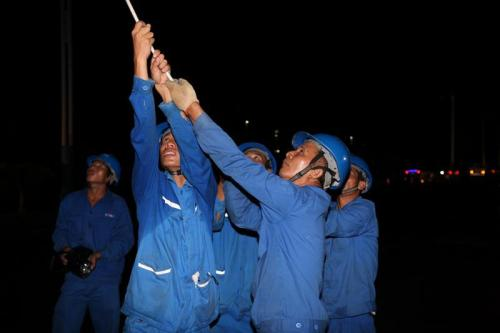gloves: (164, 76, 199, 112), (64, 245, 94, 278)
hard-hat: (291, 130, 351, 190), (238, 142, 277, 174), (86, 153, 121, 183), (349, 154, 373, 194)
person: (159, 71, 351, 333), (120, 19, 221, 333), (51, 151, 135, 333), (209, 142, 277, 332), (319, 153, 380, 333)
ppe-suit: (190, 110, 333, 332), (120, 74, 220, 332), (51, 188, 134, 332), (319, 196, 380, 332)
